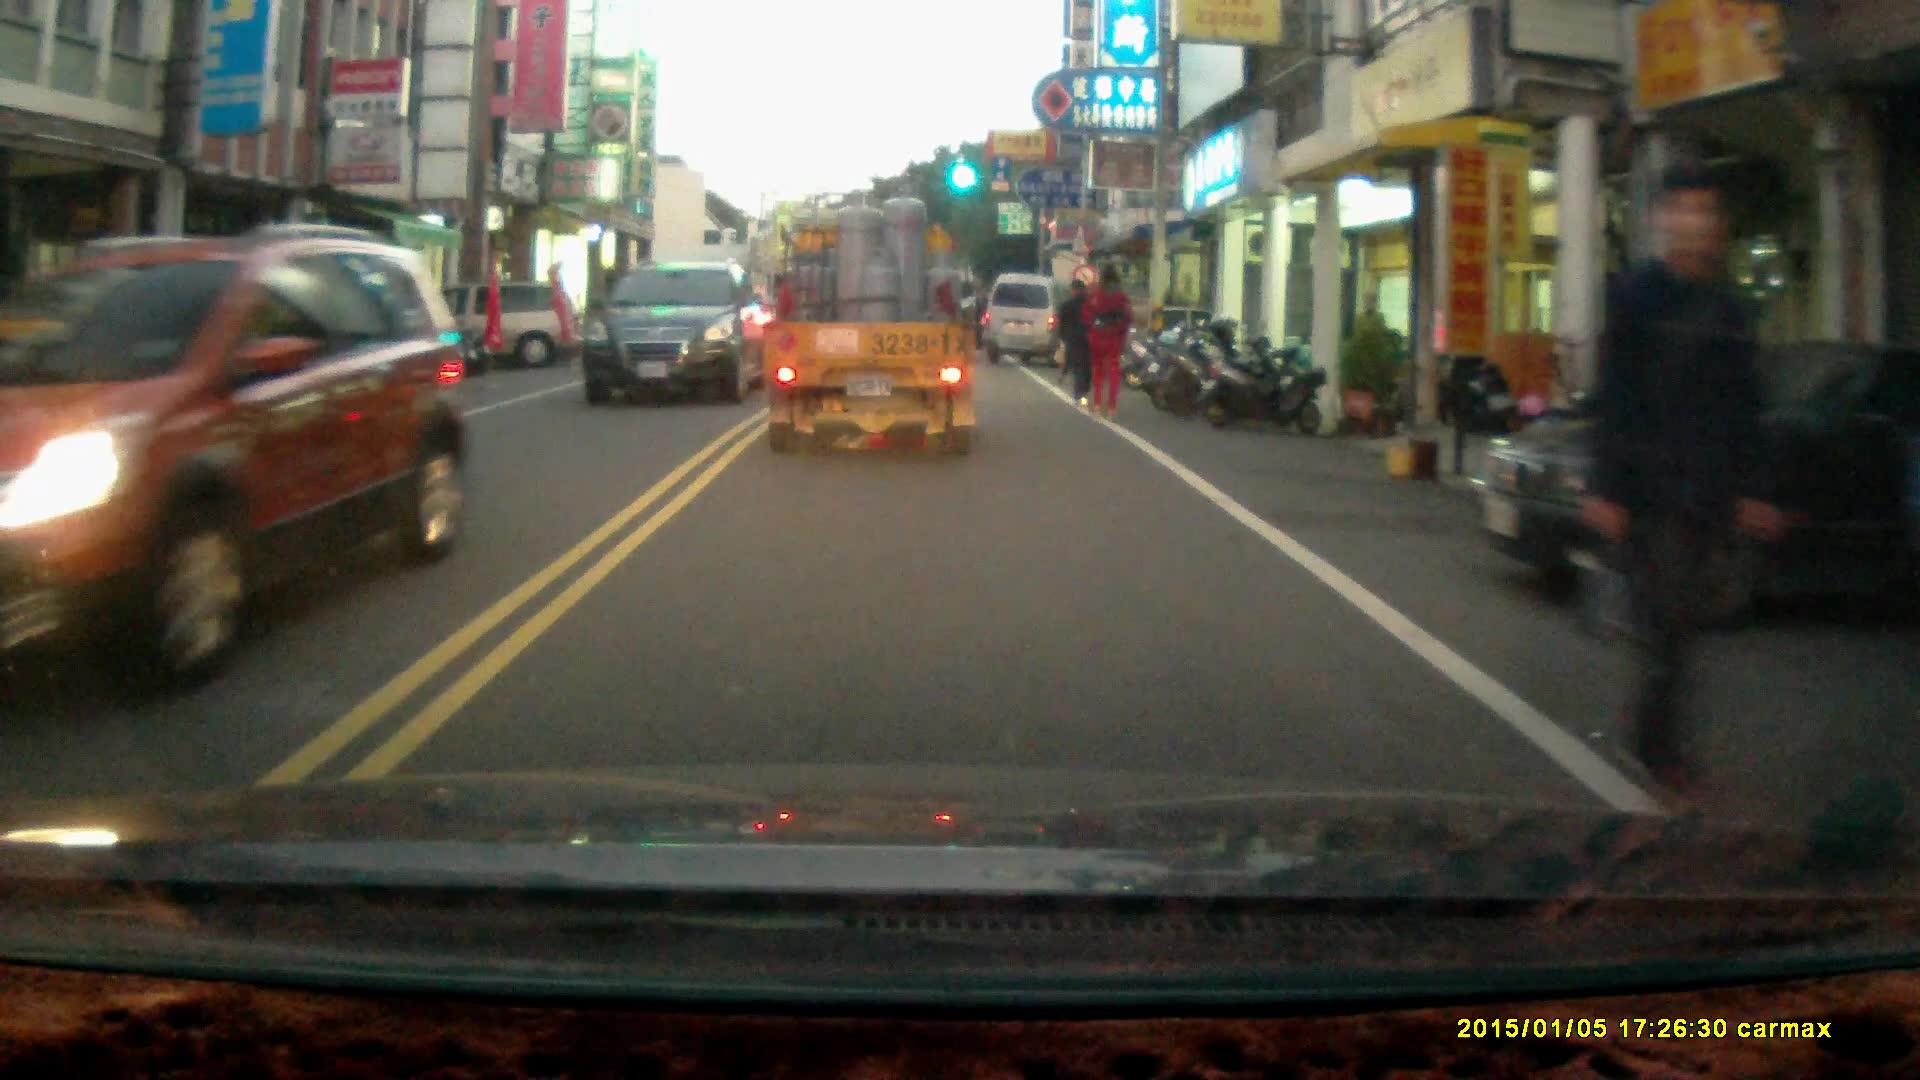pedestrian: (1579, 158, 1786, 836), (1085, 265, 1129, 415), (1059, 275, 1100, 405), (1350, 287, 1387, 383)
vehicle: (1, 224, 486, 688), (1461, 341, 1920, 625), (760, 183, 987, 470), (585, 261, 772, 409), (365, 277, 592, 372), (986, 268, 1078, 364)
